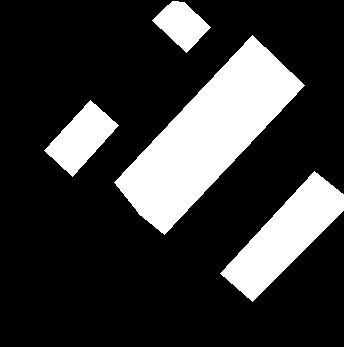parkingspot: (113, 35, 279, 212), (138, 60, 304, 234), (220, 171, 344, 301), (44, 100, 119, 176), (152, 1, 210, 52)
